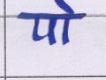e_matra: (54, 1, 78, 13)
